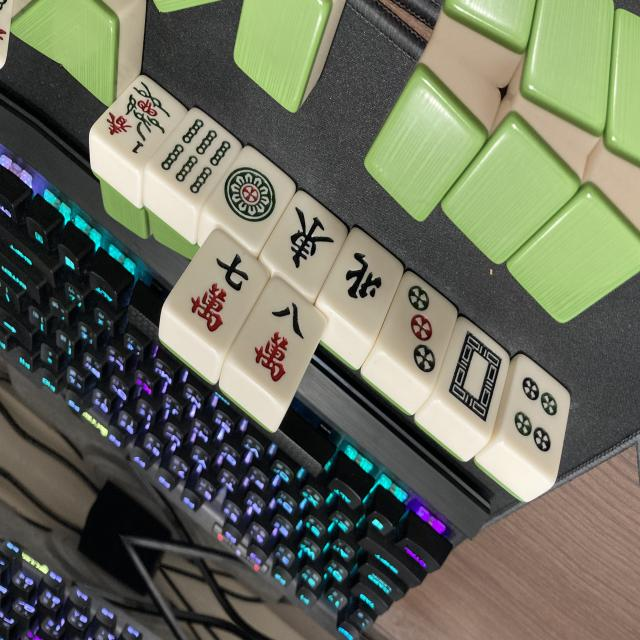bai: (424, 320, 524, 433)
east: (258, 189, 350, 294)
ff1: (95, 76, 188, 172)
m7: (165, 232, 273, 354)
m8: (225, 279, 332, 407)
north: (317, 230, 412, 338)
s6: (151, 107, 238, 203)
t1: (204, 146, 298, 248)
t3: (368, 272, 472, 390)
t4: (482, 358, 590, 480)
